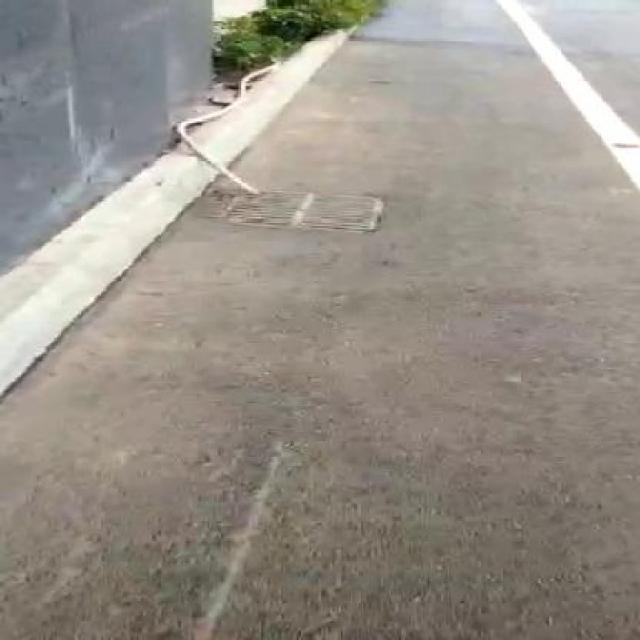Manhole: (214, 184, 386, 238)
Pothole: (612, 140, 636, 150), (368, 76, 392, 85)
